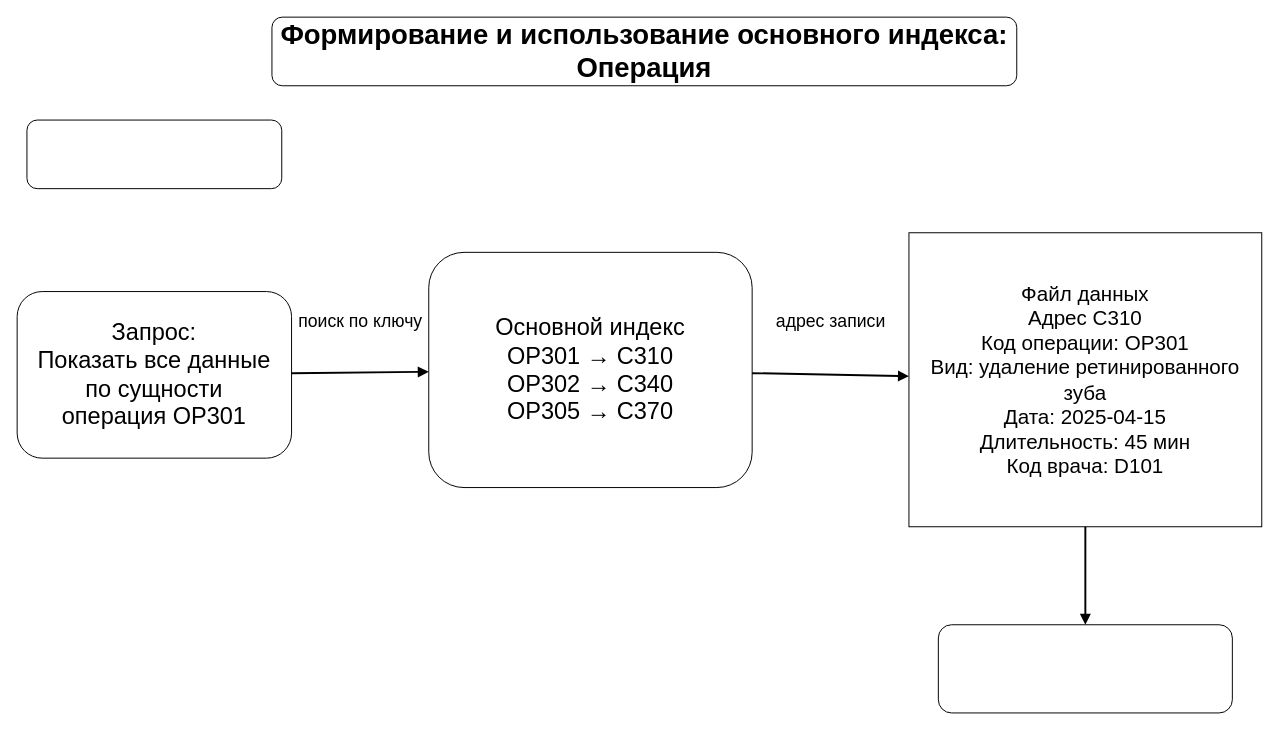
This 1279x730 diagram has some shape labels left out. Here are the shapes that lost their labels. From the top down, the centre of each, then its label:
At point 154,154: "Первичный ключ: Код операции".
At point 1084,668: "Результат: полная запись сущности".
